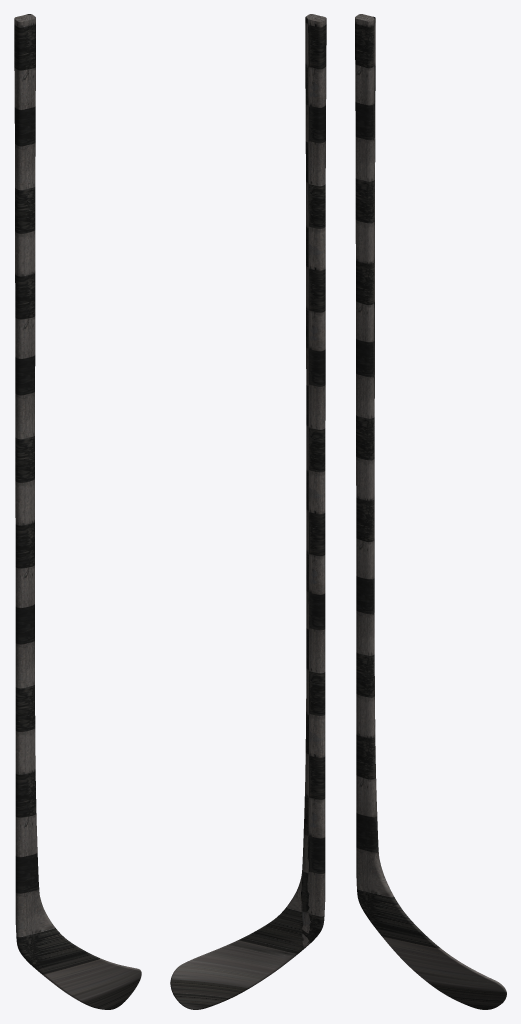
Rendered from P92B-SBO.glb.
3 renders of one model, left to right at view 1: azimuth 30°, elevation 25°; view 2: azimuth 150°, elevation 25°; view 3: azimuth 330°, elevation 25°, orthographic. The views are drawn at different scales.
Visible parts, largest first — view 1: geometry_0; view 2: geometry_0; view 3: geometry_0.
Boxes of the visible parts, x1,y1,x2,y2 form: geometry_0: (14, 14, 141, 1009); geometry_0: (170, 14, 326, 1009); geometry_0: (355, 14, 506, 1009).
Bounding box in the file's own units: 236 × 1650 × 65.89.
Materials: 1 (1 with a texture image).
